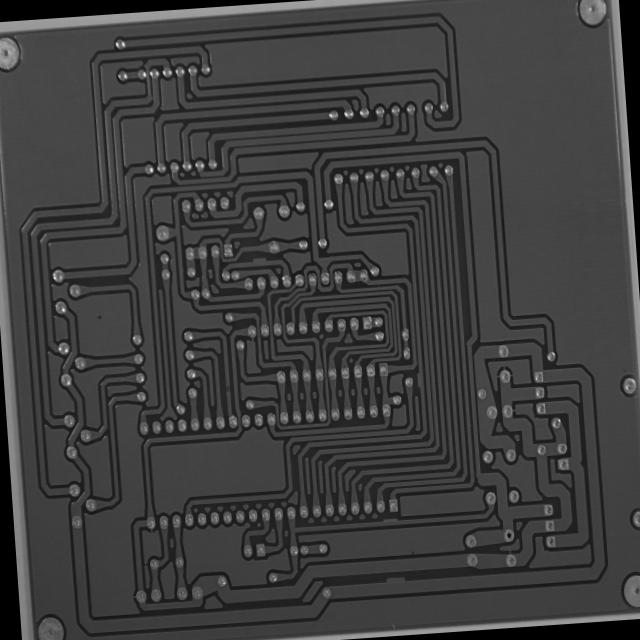spur: (382, 571, 409, 588), (248, 252, 270, 266), (380, 515, 400, 527), (414, 368, 424, 390)
